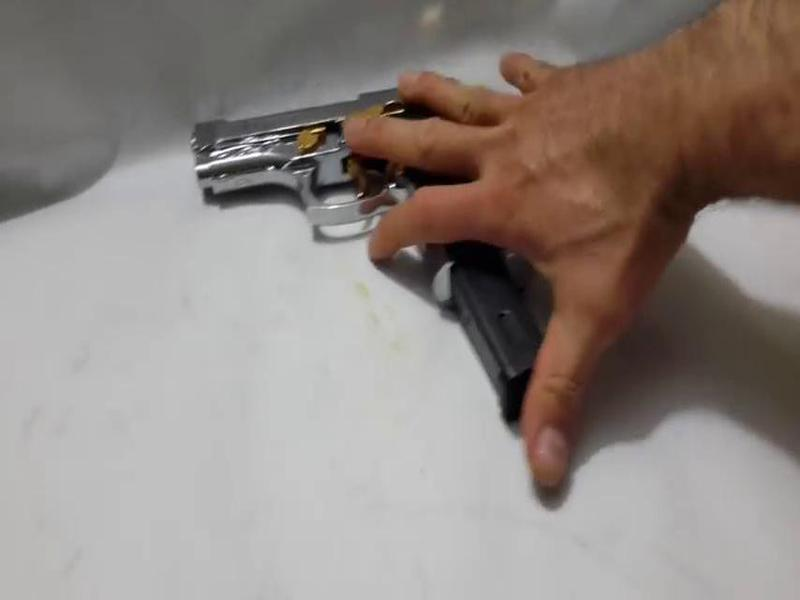Pistola: (170, 69, 537, 275)
